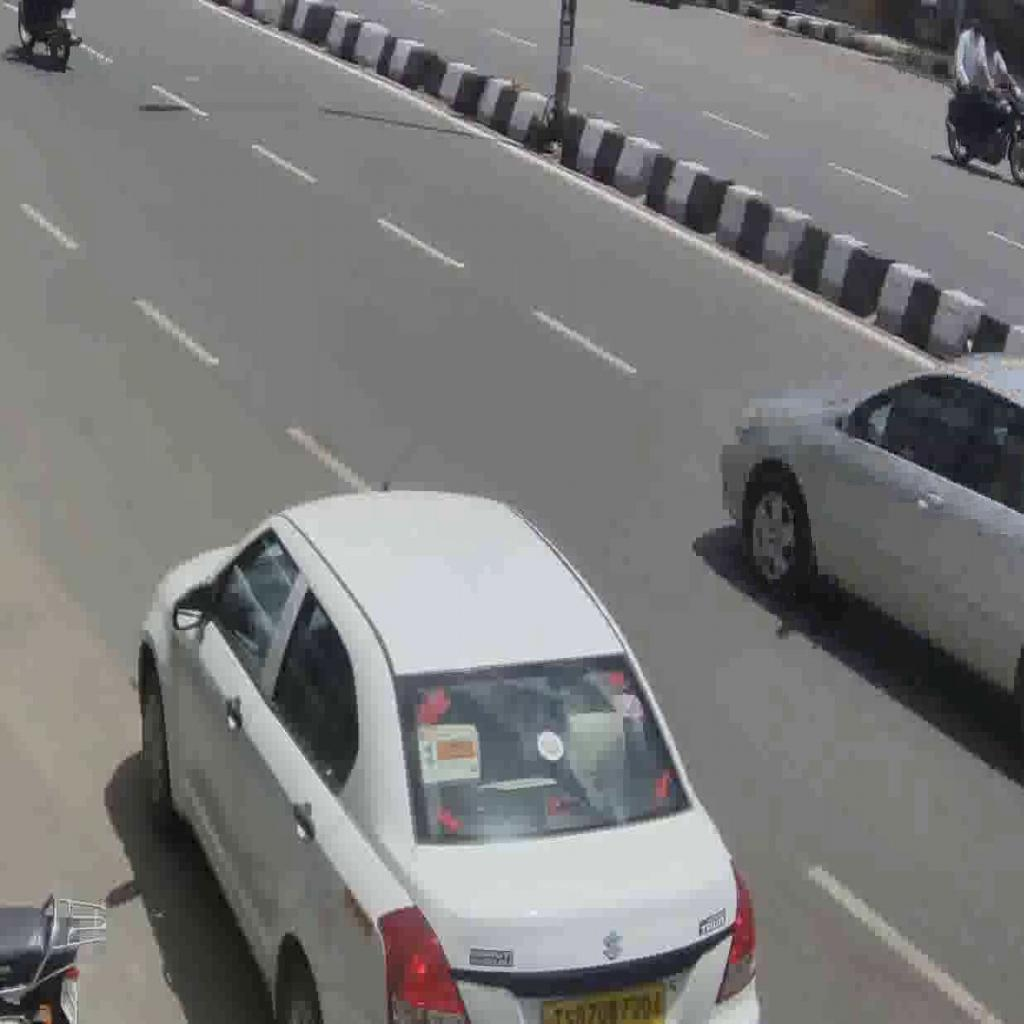noise: (945, 10, 1024, 186)
